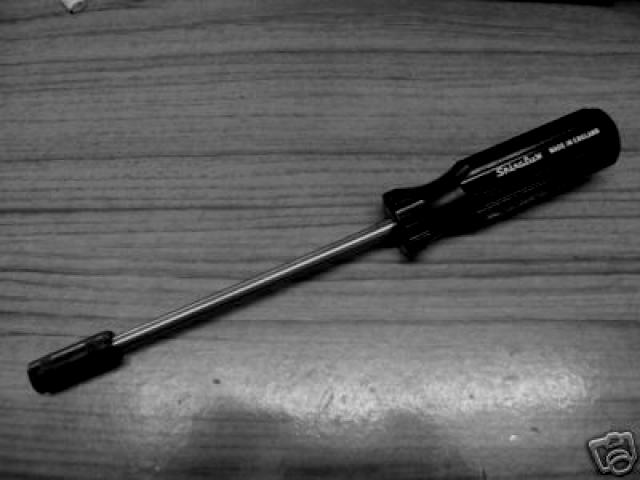Screwdriver: (28, 109, 619, 392)
